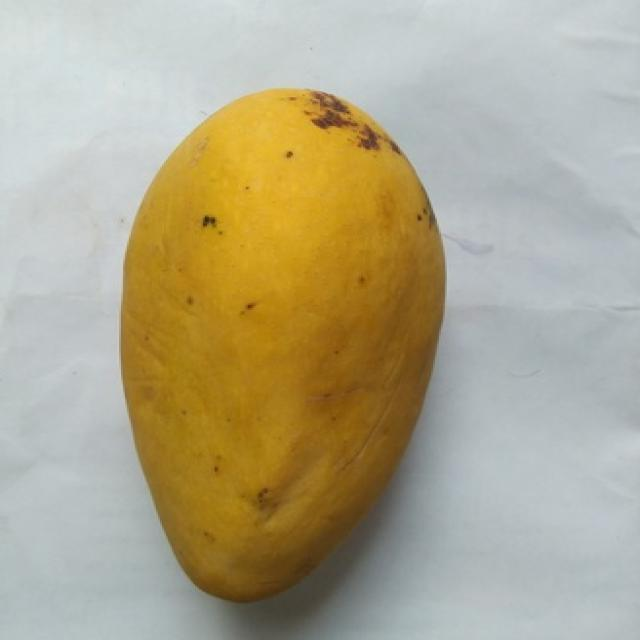Mango: (121, 89, 443, 600)
